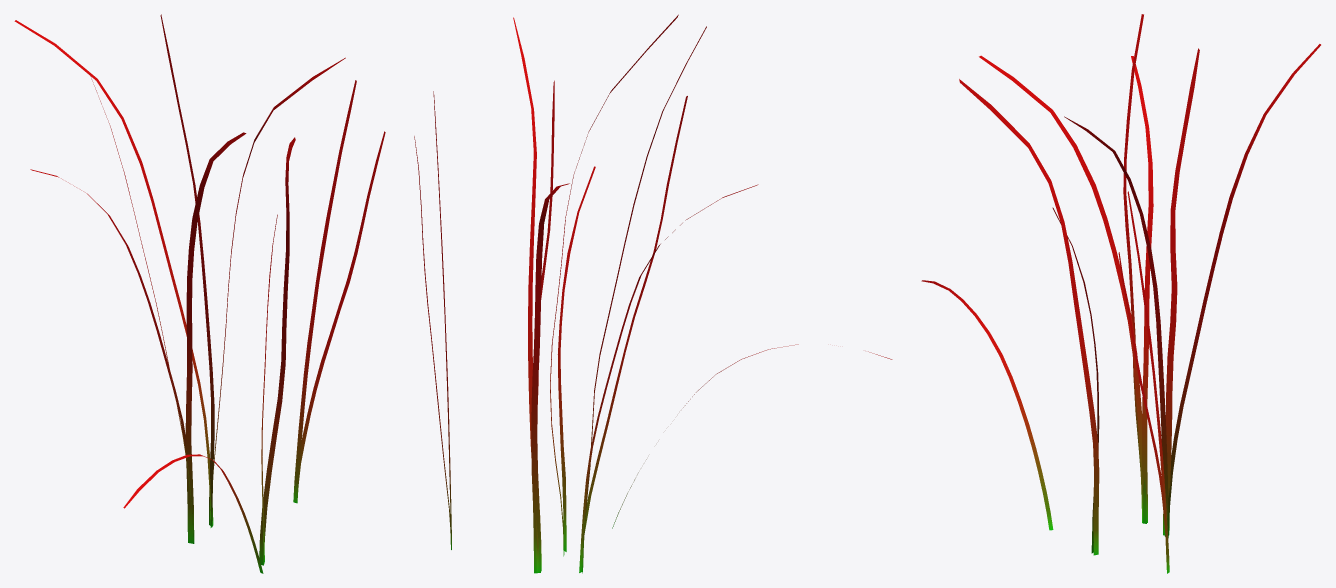
Rendered from Softstem Bulrush_LOD1_Var1_uehjcafia.fbx.
3 views of the same model, side by side, from view 1: azimuth 30°, elevation 25°; view 2: azimuth 150°, elevation 25°; view 3: azimuth 270°, elevation 25° (orthographic). The views are drawn at different scales.
Visible parts, largest first — view 1: _46c6_Var1_LOD1; view 2: _46c6_Var1_LOD1; view 3: _46c6_Var1_LOD1.
Part boxes in pixels (x1=…): _46c6_Var1_LOD1: x1=14, y1=14, x2=385, y2=573; _46c6_Var1_LOD1: x1=414, y1=14, x2=892, y2=573; _46c6_Var1_LOD1: x1=921, y1=14, x2=1320, y2=573.
Bounding box in the file's own units: 59.6 × 80.88 × 60.32.
